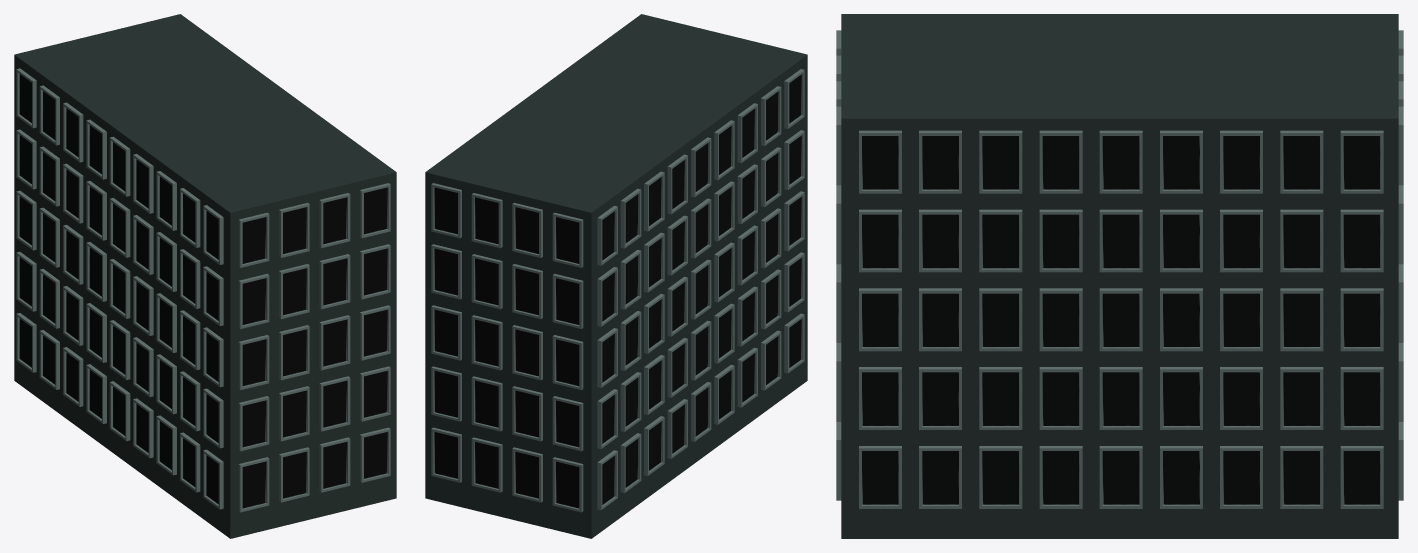
The model's file is building2.fbx.
3 views of the same model, side by side, from view 1: azimuth 30°, elevation 25°; view 2: azimuth 150°, elevation 25°; view 3: azimuth 270°, elevation 25° (orthographic). The views are drawn at different scales.
Visible parts, largest first — view 1: bina_2; view 2: bina_2; view 3: bina_2.
Part boxes in pixels (left/top/right/bottom): bina_2: left=14, top=14, right=396, bottom=538; bina_2: left=425, top=14, right=807, bottom=538; bina_2: left=836, top=14, right=1403, bottom=538.
Size of the model in its own units: 175 by 314 by 384.
